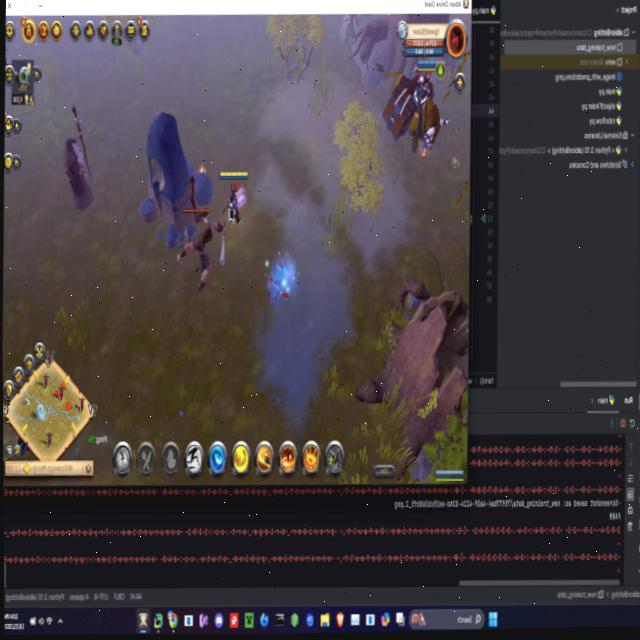ore: (175, 195, 227, 312), (55, 99, 98, 225)
red: (374, 50, 450, 170), (215, 164, 251, 240), (431, 461, 464, 484)
